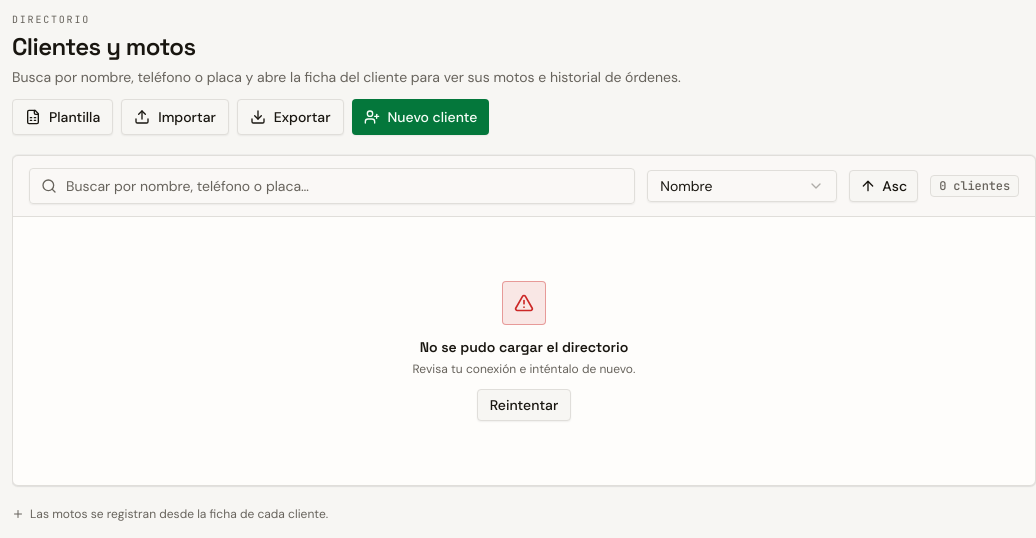
Test case: Listings loading, retry and no-polling (characterization) › re-reads the customers page when the error retry is used
Expected: the element with test id "customers.error_state" is shown, top-left (413, 281), bottom-right (635, 421)
Click the button with test id "customers.retry_button" at (524, 405), box top-left (477, 389), bottom-right (571, 421)
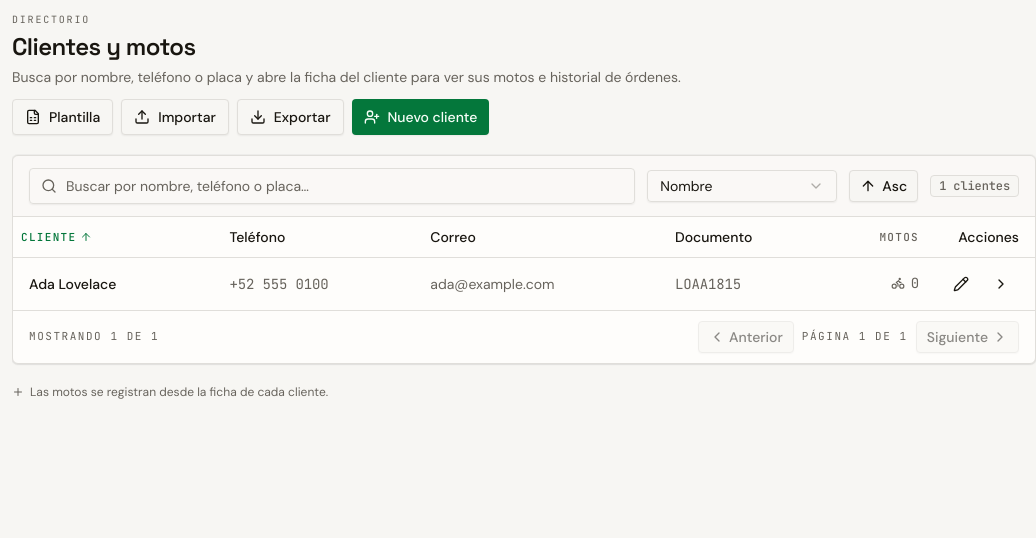
Now the link "Ada Lovelace" is shown, box top-left (29, 274), bottom-right (116, 292)
